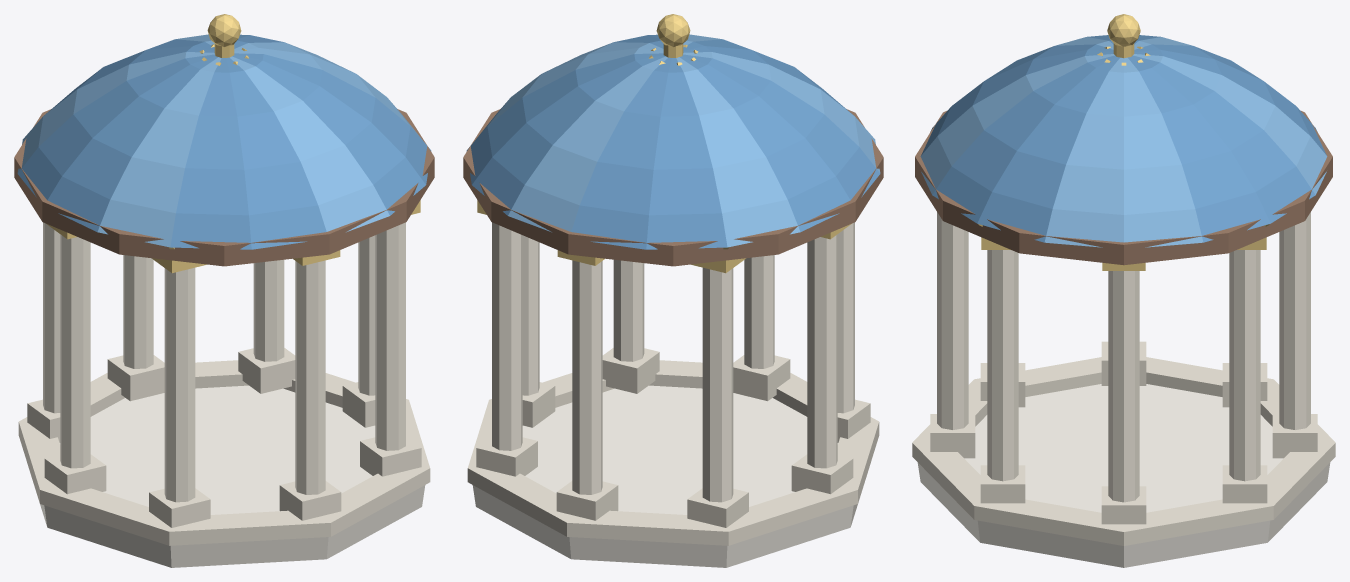
The model's file is dome-blue.glb.
3 renders of one model, left to right at view 1: azimuth 30°, elevation 25°; view 2: azimuth 150°, elevation 25°; view 3: azimuth 270°, elevation 25°, orthographic.
Visible parts, largest first — view 1: dome_blue_roof_blue, dome_blue_plaster, dome_blue_stone_light, dome_blue_stone, dome_blue_roof_blue_light, dome_blue_wood_dark, dome_blue_gold; view 2: dome_blue_roof_blue, dome_blue_plaster, dome_blue_stone_light, dome_blue_stone, dome_blue_roof_blue_light, dome_blue_wood_dark, dome_blue_gold; view 3: dome_blue_roof_blue, dome_blue_plaster, dome_blue_stone_light, dome_blue_roof_blue_light, dome_blue_stone, dome_blue_wood_dark, dome_blue_gold.
Boxes of the visible parts, x1,y1,x2,y2 form: dome_blue_roof_blue: [17, 34, 431, 249]; dome_blue_plaster: [43, 222, 405, 502]; dome_blue_stone_light: [40, 385, 425, 567]; dome_blue_stone: [18, 348, 430, 545]; dome_blue_roof_blue_light: [17, 34, 428, 247]; dome_blue_wood_dark: [14, 109, 434, 266]; dome_blue_gold: [46, 14, 420, 273]; dome_blue_roof_blue: [466, 34, 880, 249]; dome_blue_plaster: [492, 222, 854, 502]; dome_blue_stone_light: [472, 385, 857, 567]; dome_blue_stone: [467, 348, 879, 545]; dome_blue_roof_blue_light: [469, 34, 880, 247]; dome_blue_wood_dark: [463, 109, 883, 266]; dome_blue_gold: [477, 14, 851, 273]; dome_blue_roof_blue: [921, 35, 1326, 242]; dome_blue_plaster: [937, 212, 1310, 502]; dome_blue_stone_light: [917, 384, 1330, 567]; dome_blue_roof_blue_light: [920, 37, 1327, 247]; dome_blue_stone: [912, 341, 1335, 545]; dome_blue_wood_dark: [915, 111, 1332, 265]; dome_blue_gold: [978, 14, 1269, 270].
Size of the model in its own units: 3.02 by 3.67 by 3.02.
